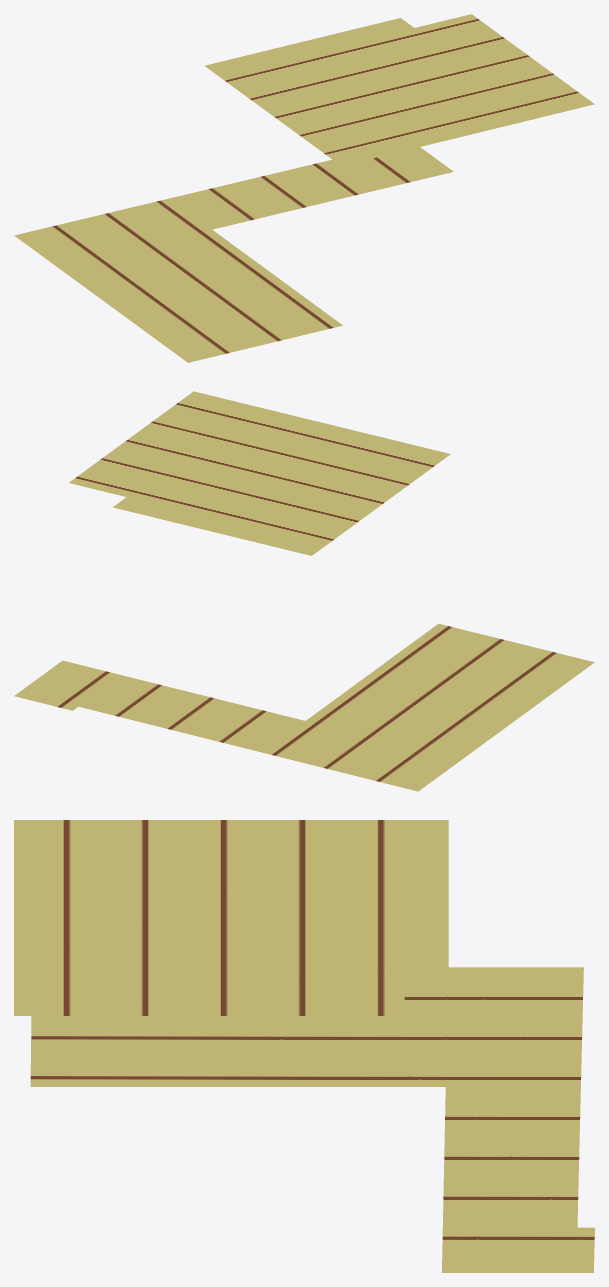
Rendered from workout floors.obj.
The picture shows the model from 3 angles, top to bottom: view 1: azimuth 30°, elevation 25°; view 2: azimuth 150°, elevation 25°; view 3: azimuth 270°, elevation 25°; orthographic projection. The views are drawn at different scales.
Visible parts, largest first — view 1: polySurface1415; view 2: polySurface1415; view 3: polySurface1415.
Boxes of the visible parts, x1,y1,x2,y2 form: polySurface1415: (14,14,594,362); polySurface1415: (14,391,594,791); polySurface1415: (14,820,594,1272).
Bounding box in the file's own units: 10.65 × 4.18 × 8.43.
1 material, 1 textured.
